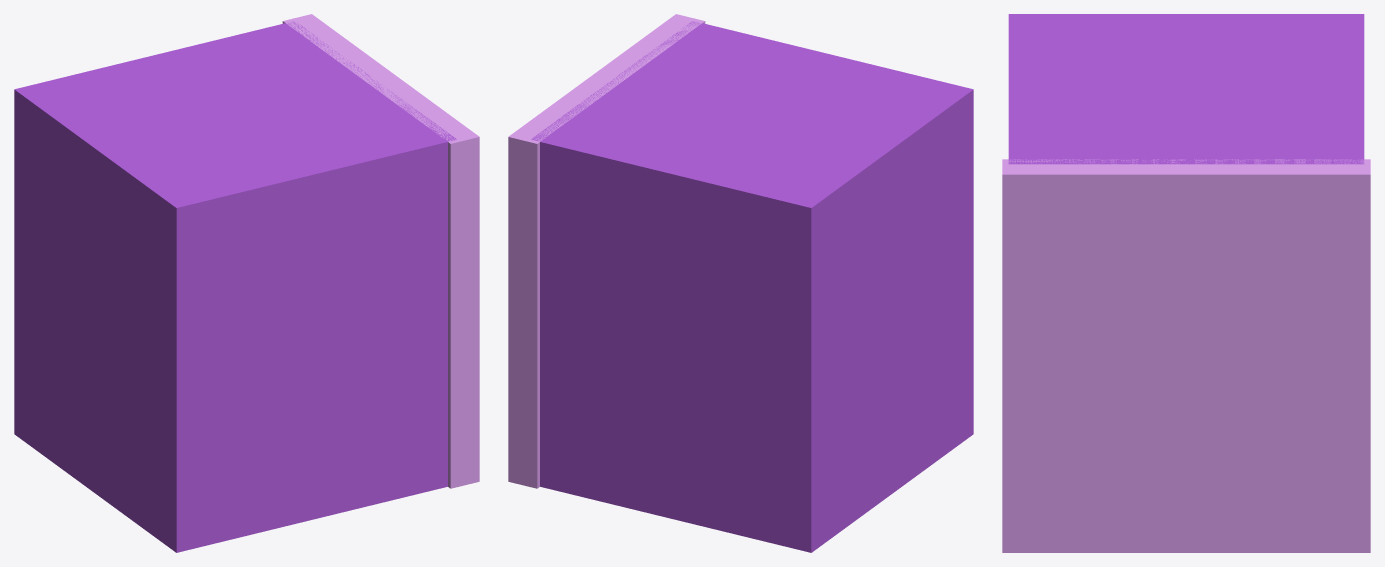
Rendered from dj_manga_sup.glb.
3 renders of one model, left to right at view 1: azimuth 30°, elevation 25°; view 2: azimuth 150°, elevation 25°; view 3: azimuth 270°, elevation 25°, orthographic. The views are drawn at different scales.
Parts seen in each view (by area): view 1: dj_manga_sup; view 2: dj_manga_sup; view 3: dj_manga_sup.
Boxes of the visible parts, box(x1,y1,x2,y2) form: dj_manga_sup: box(14, 14, 479, 552); dj_manga_sup: box(508, 14, 973, 552); dj_manga_sup: box(1002, 14, 1370, 552).
Size of the model in its own units: 0.31 by 0.34 by 0.3.
